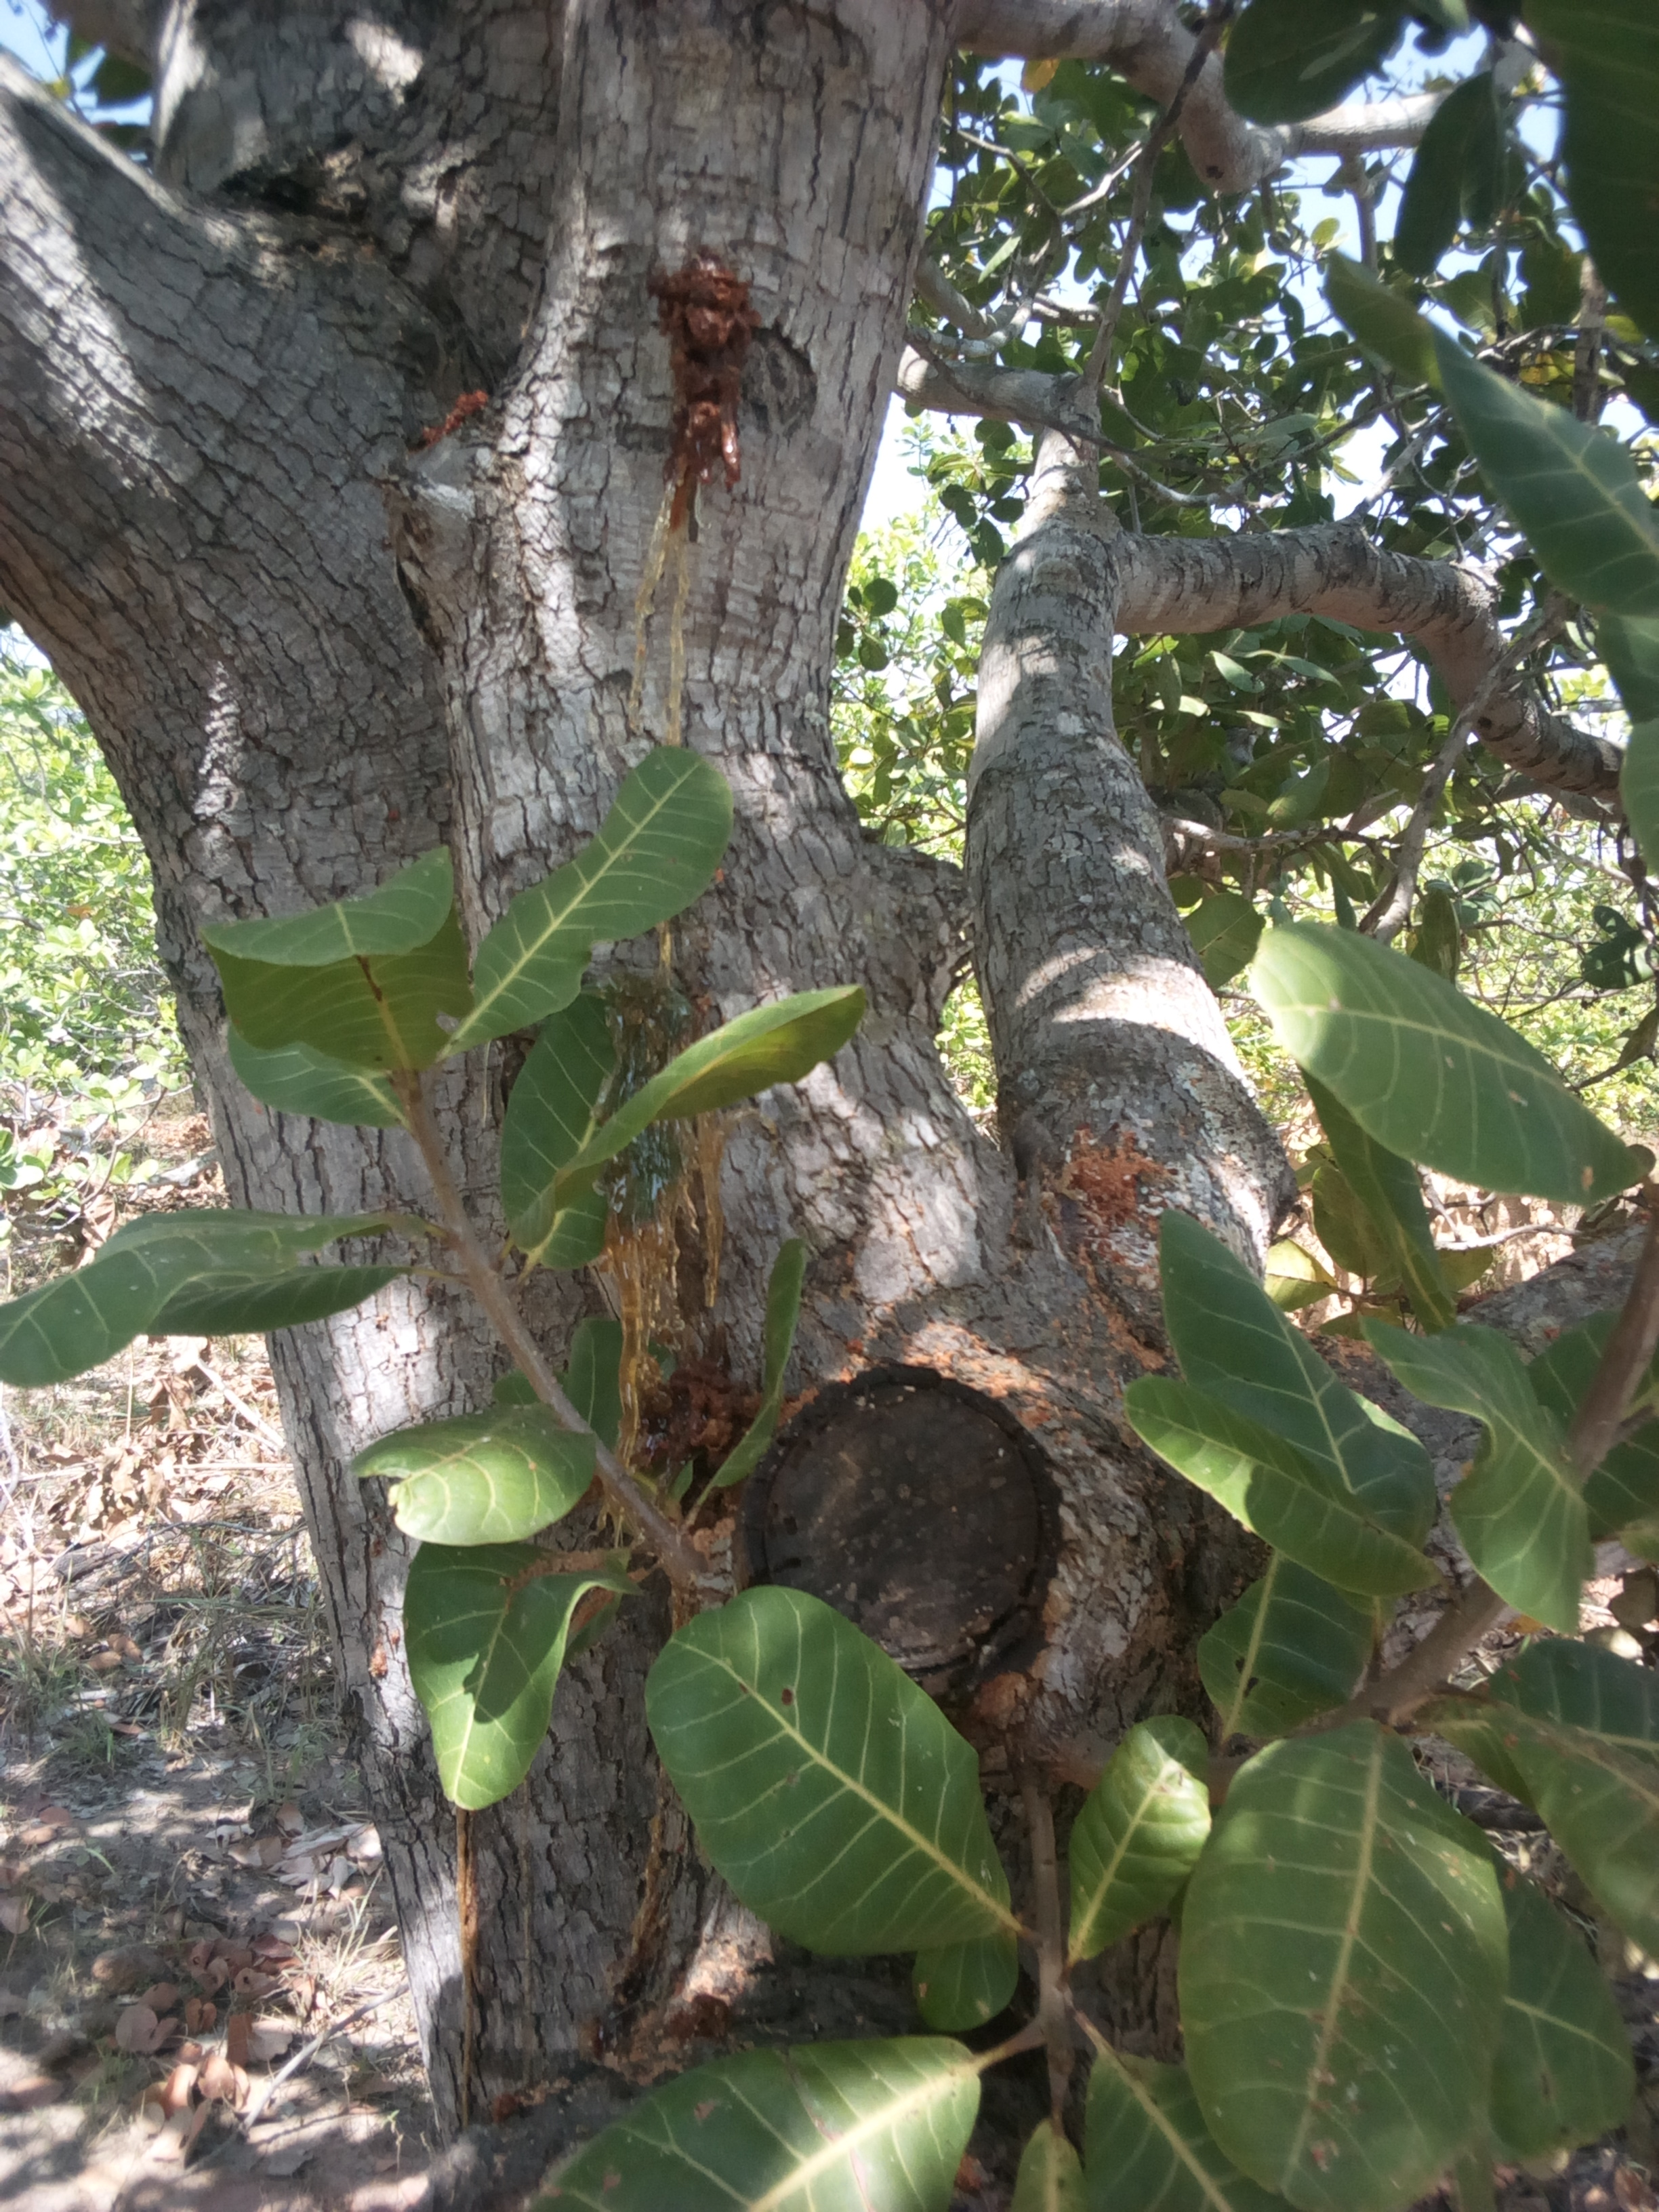Apate terebrans: (561, 221, 969, 578)
